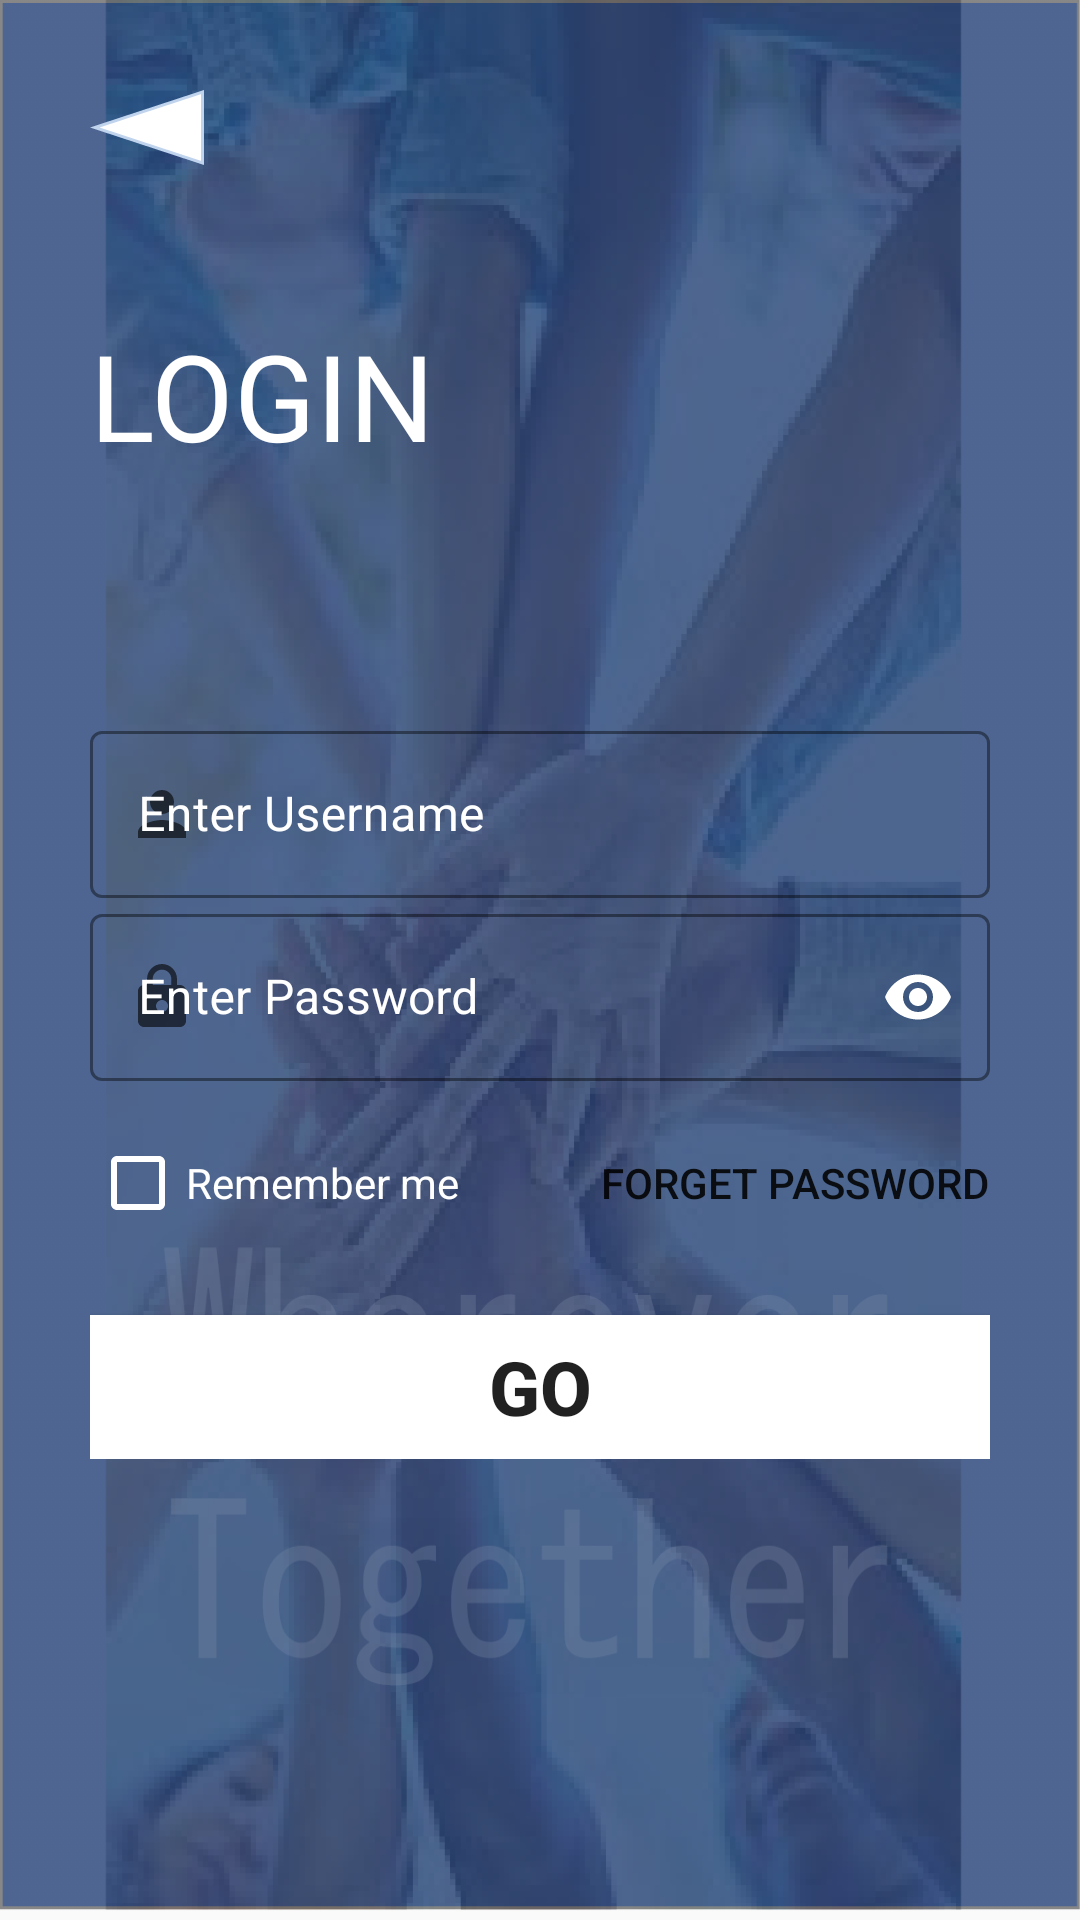

Where to tap for icons on this 1080px x 1920px app screen, as [x,y]:
back: [147,127]
